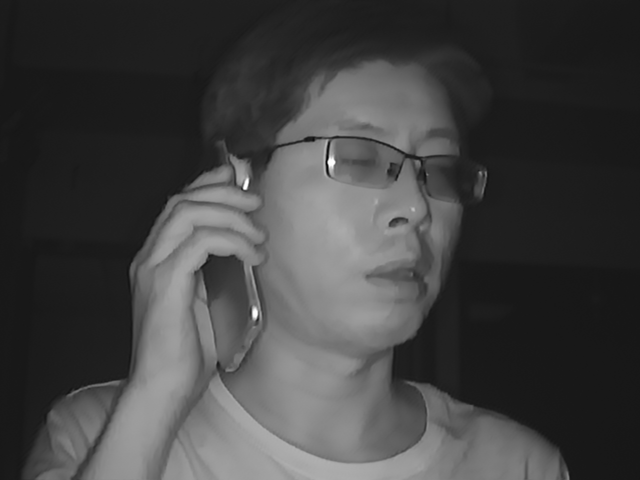hand: (122, 167, 268, 385)
